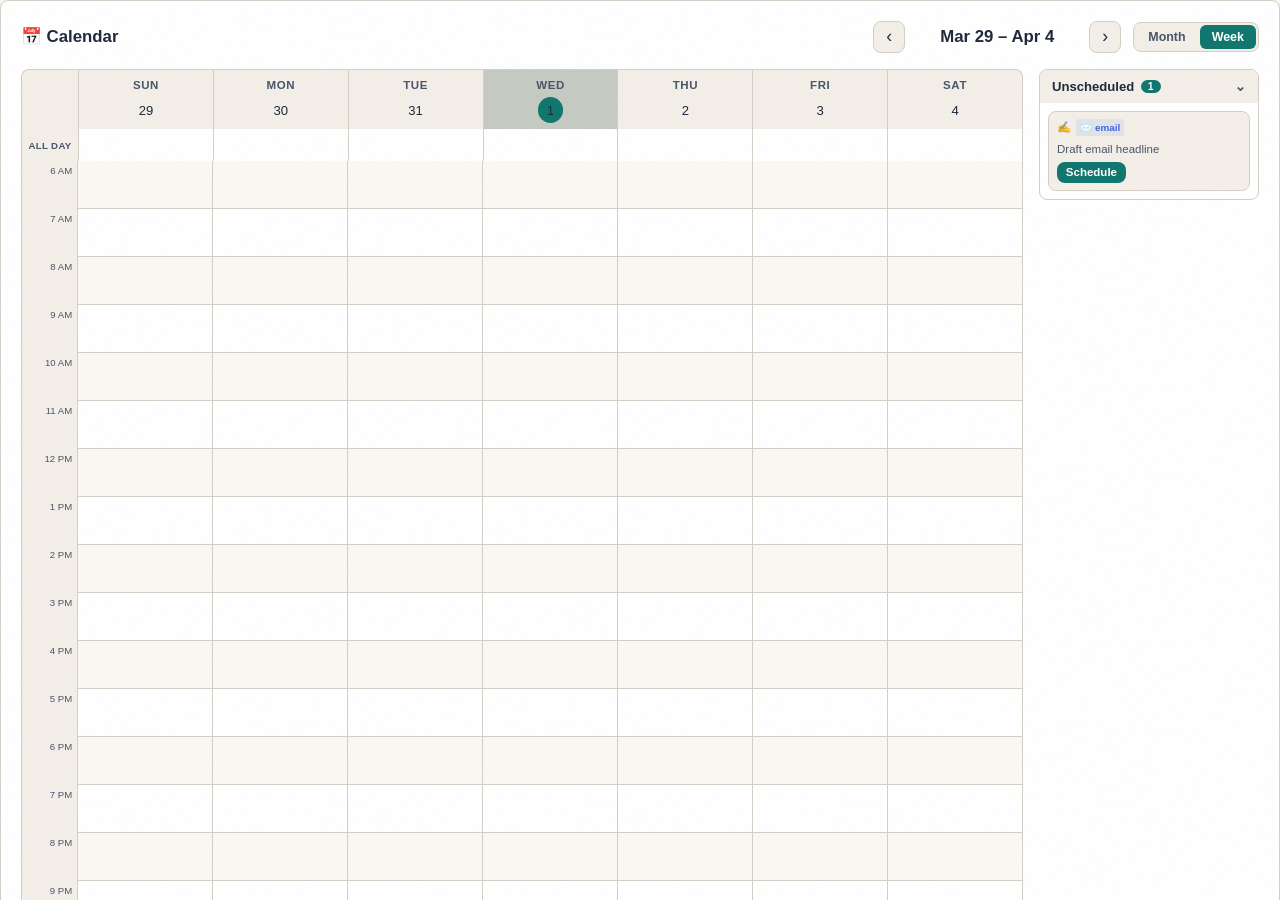
Test case: CalendarView – unscheduled sidebar › clicking Schedule button shows DatePicker and Cancel button
What coordinates should you click on to do the following:
click the button "Schedule"
I would click on:
 (1091, 172)
Its box is [1057,162,1126,183].
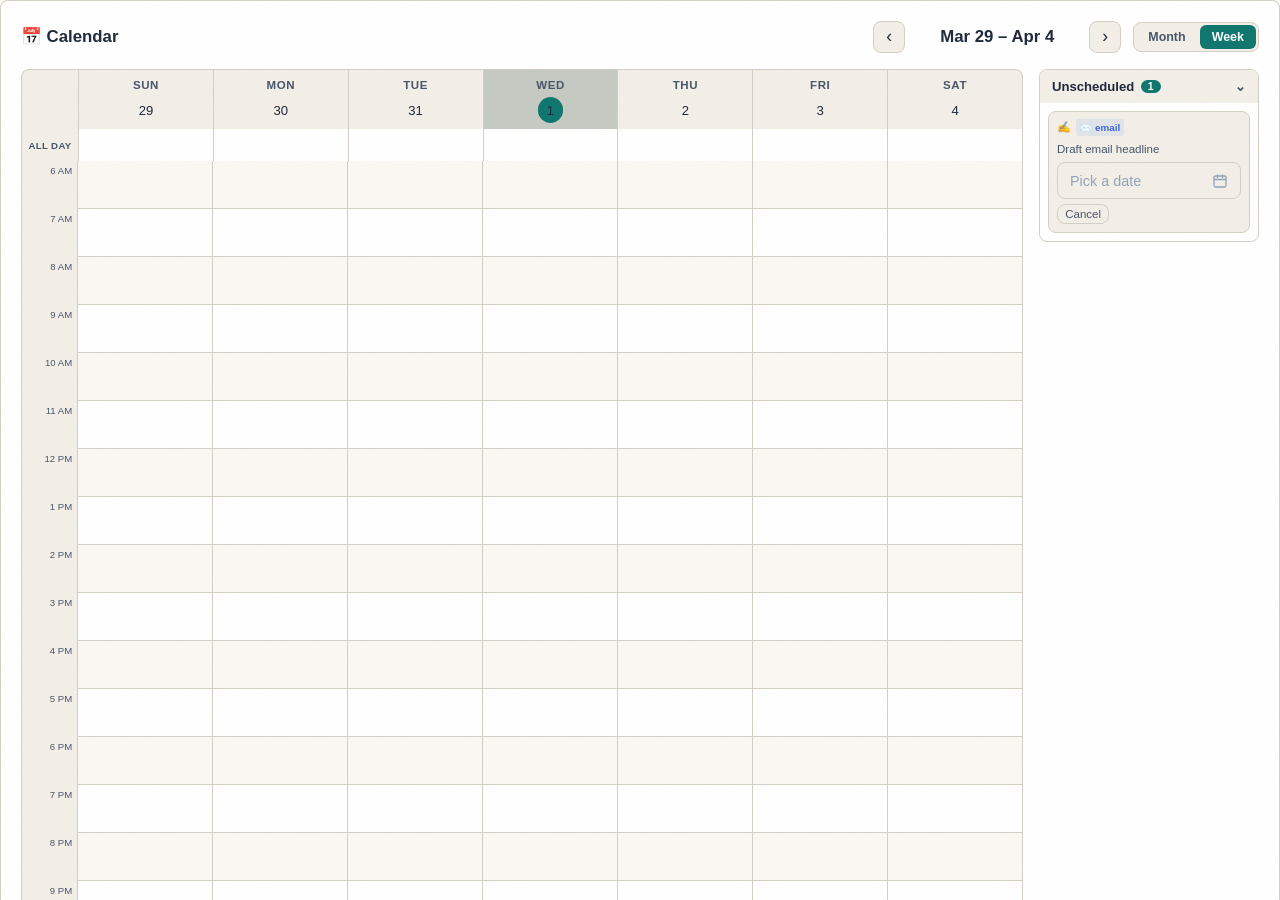
Expected: the button "Cancel" is shown, [1057,204,1109,224]
Expected: the text "Pick a date" is shown, [1070,172,1141,188]
